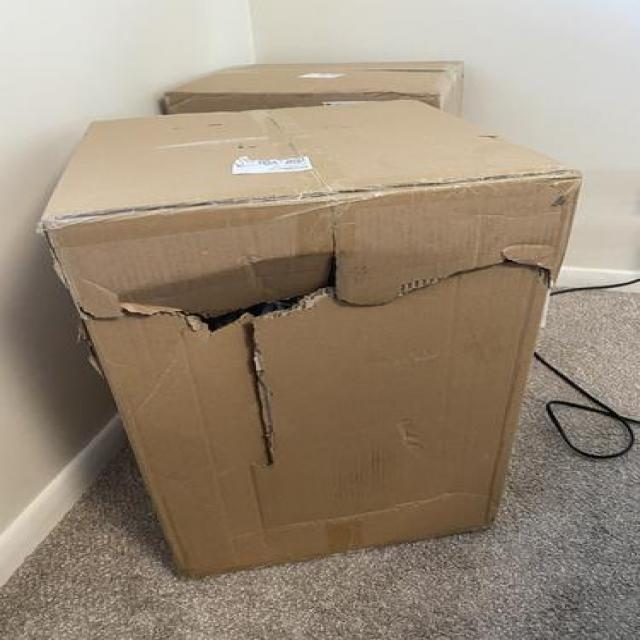hole: (125, 254, 391, 342)
